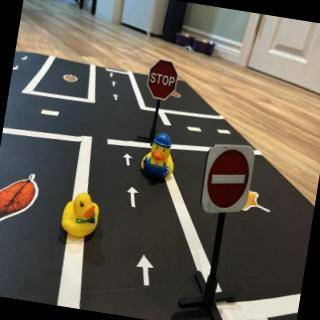duck_regular: (59, 190, 104, 242)
duck_specialty: (139, 130, 180, 183)
road_oneway: (134, 253, 158, 292), (125, 183, 144, 214), (122, 153, 136, 171), (111, 92, 122, 105), (21, 54, 30, 64), (13, 66, 23, 73), (111, 81, 118, 90), (109, 73, 115, 80)
sign_noentry: (201, 140, 257, 221)
sign_stop: (148, 60, 182, 101)
